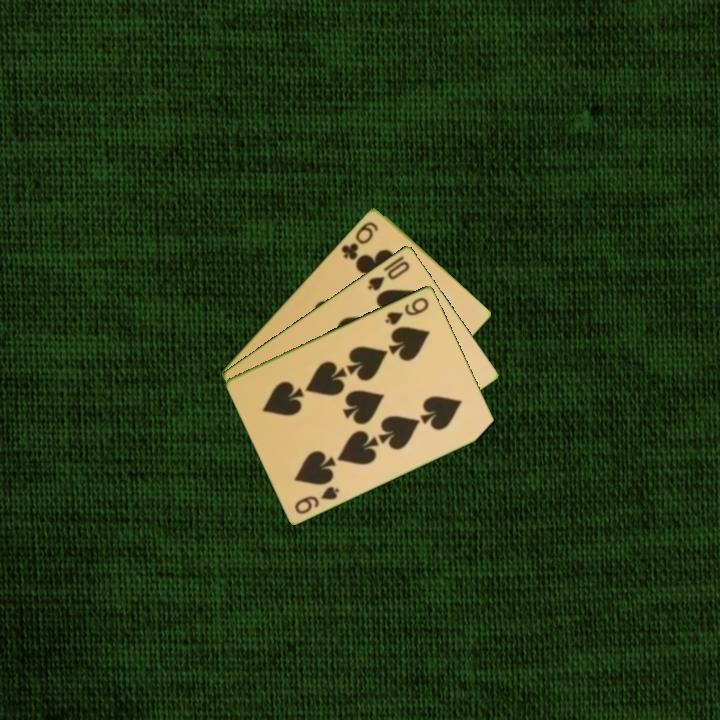10s: (364, 257, 413, 293)
6c: (337, 217, 381, 263)
9s: (381, 293, 432, 328), (291, 482, 342, 517)
